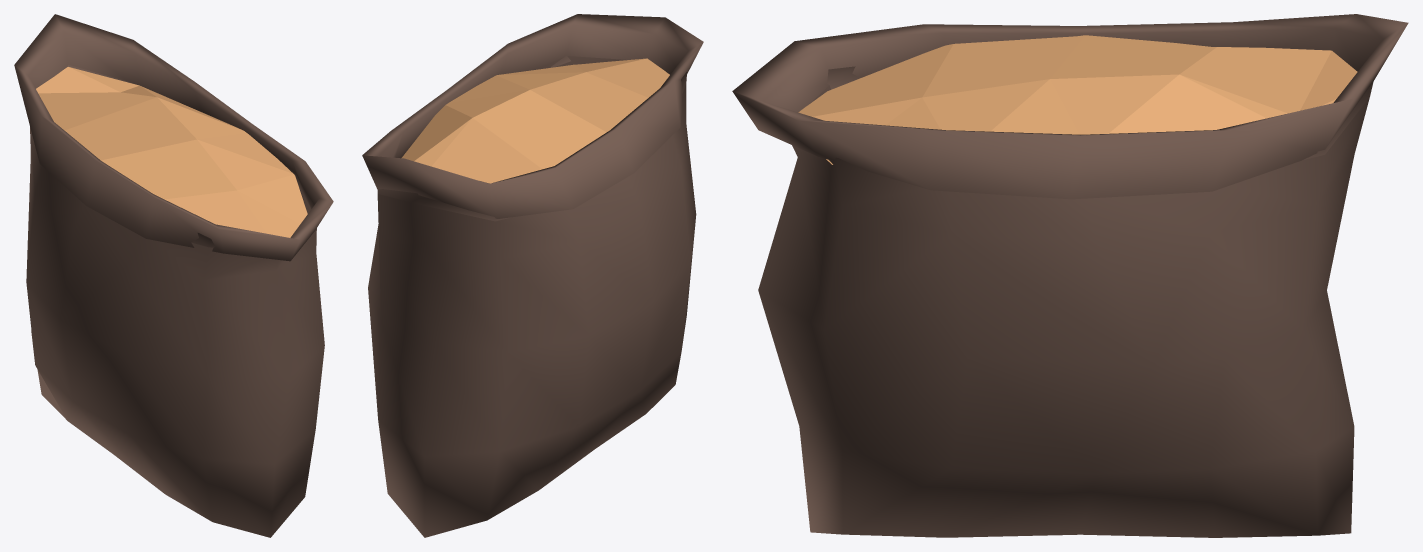
File: LittleSeedBag.fbx
The picture shows the model from 3 angles, left to right: view 1: azimuth 30°, elevation 25°; view 2: azimuth 150°, elevation 25°; view 3: azimuth 270°, elevation 25°; orthographic projection. The views are drawn at different scales.
Visible parts, largest first — view 1: Cube.006; view 2: Cube.006; view 3: Cube.006.
Part boxes in pixels (bbox=[...]): Cube.006: bbox=[14, 14, 333, 537]; Cube.006: bbox=[362, 14, 703, 537]; Cube.006: bbox=[732, 14, 1408, 537].
Size of the model in its own units: 9.35 by 14.61 by 17.58.
